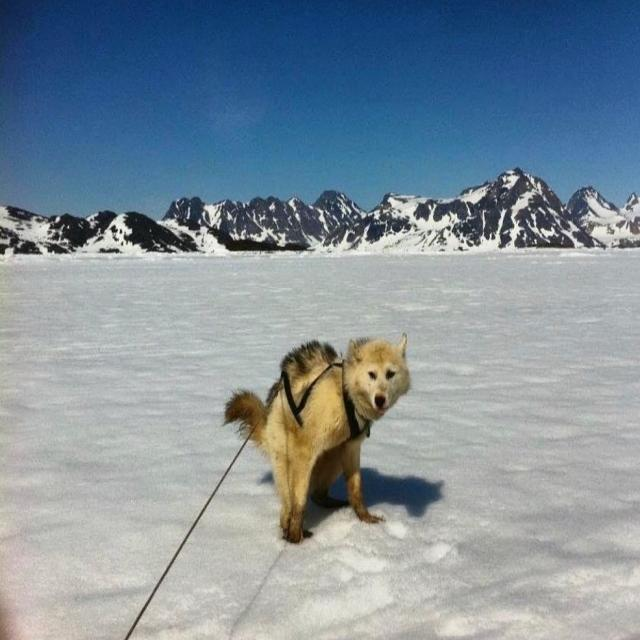squatting: (216, 324, 417, 548)
